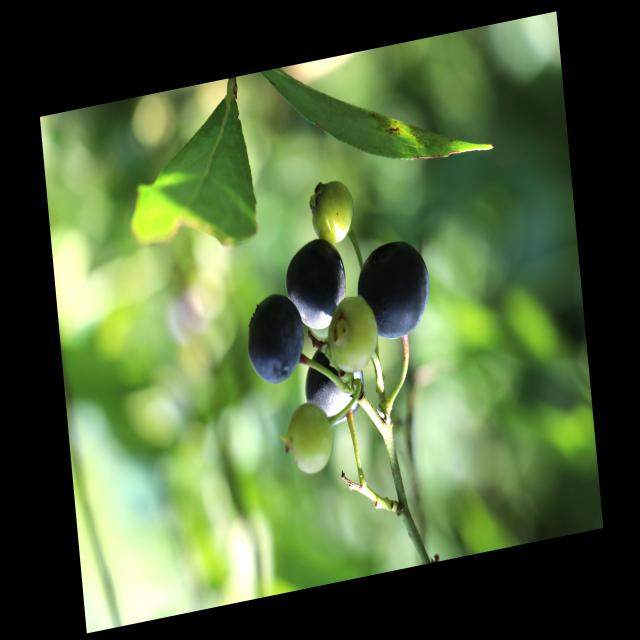blueberry: (353, 235, 434, 346), (281, 232, 350, 336), (242, 288, 310, 392), (305, 342, 366, 426)
blueberry-unripe: (323, 295, 381, 377), (284, 397, 338, 480), (304, 174, 358, 248)
